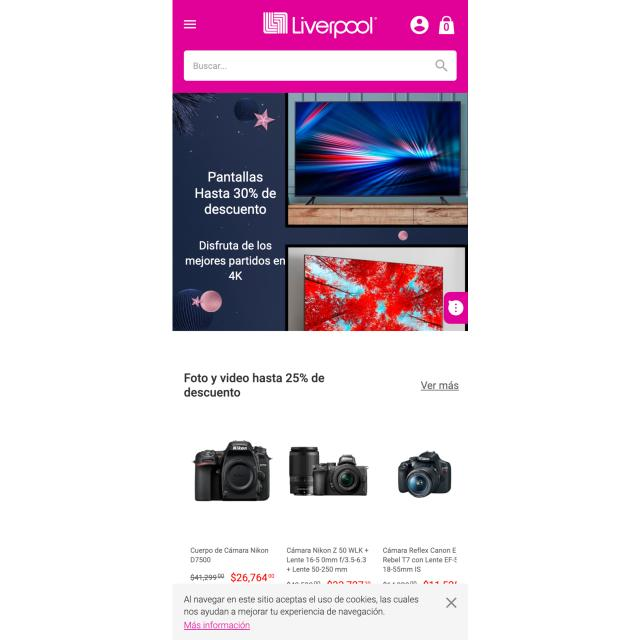CheckBox: (182, 619, 252, 631)
CheckedTextView: (183, 49, 458, 82)
bag: (171, 0, 468, 94)
card: (172, 92, 468, 331)
carousel: (433, 57, 452, 78), (444, 595, 458, 610)
date picker: (261, 9, 378, 39)
decoration: (182, 17, 200, 33)
footer: (192, 58, 228, 72)
header: (172, 584, 468, 640)
